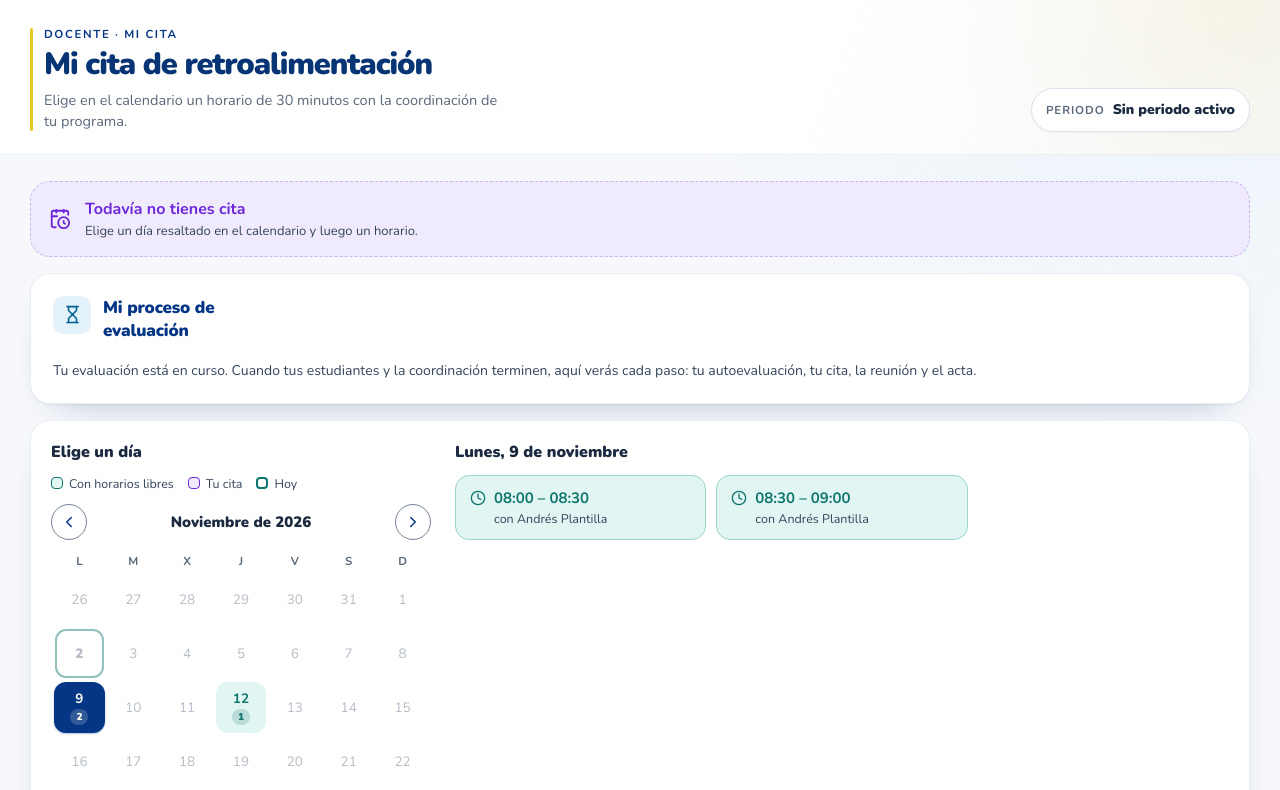
MiCita › si otra persona tomó la franja muestra el 409 y recarga la lista
Step 1. Click the button with aria-label "Reservar 9 de nov de 2026, 08:00–08:30" → (581, 507), box x1=455 y1=475 x2=706 y2=540
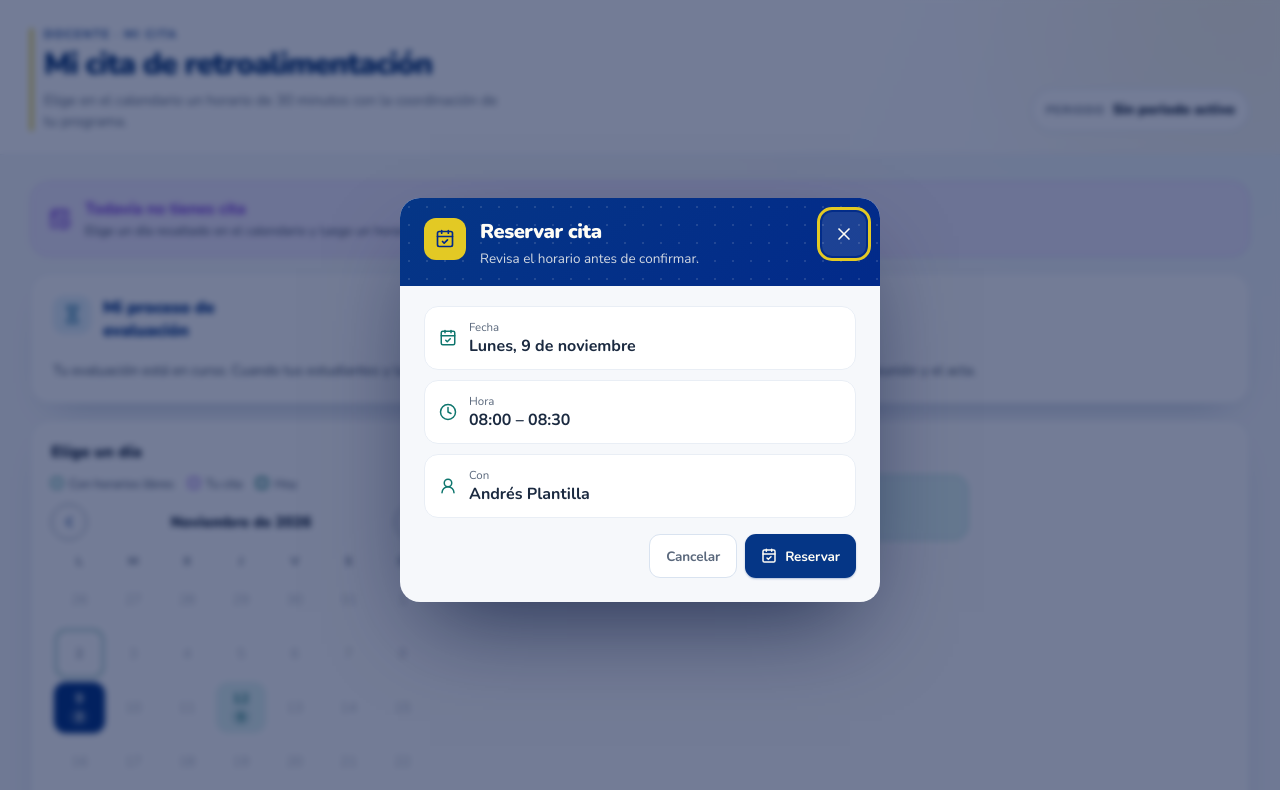
Step 2. Click the button "Reservar" → (801, 556), box x1=745 y1=534 x2=856 y2=578
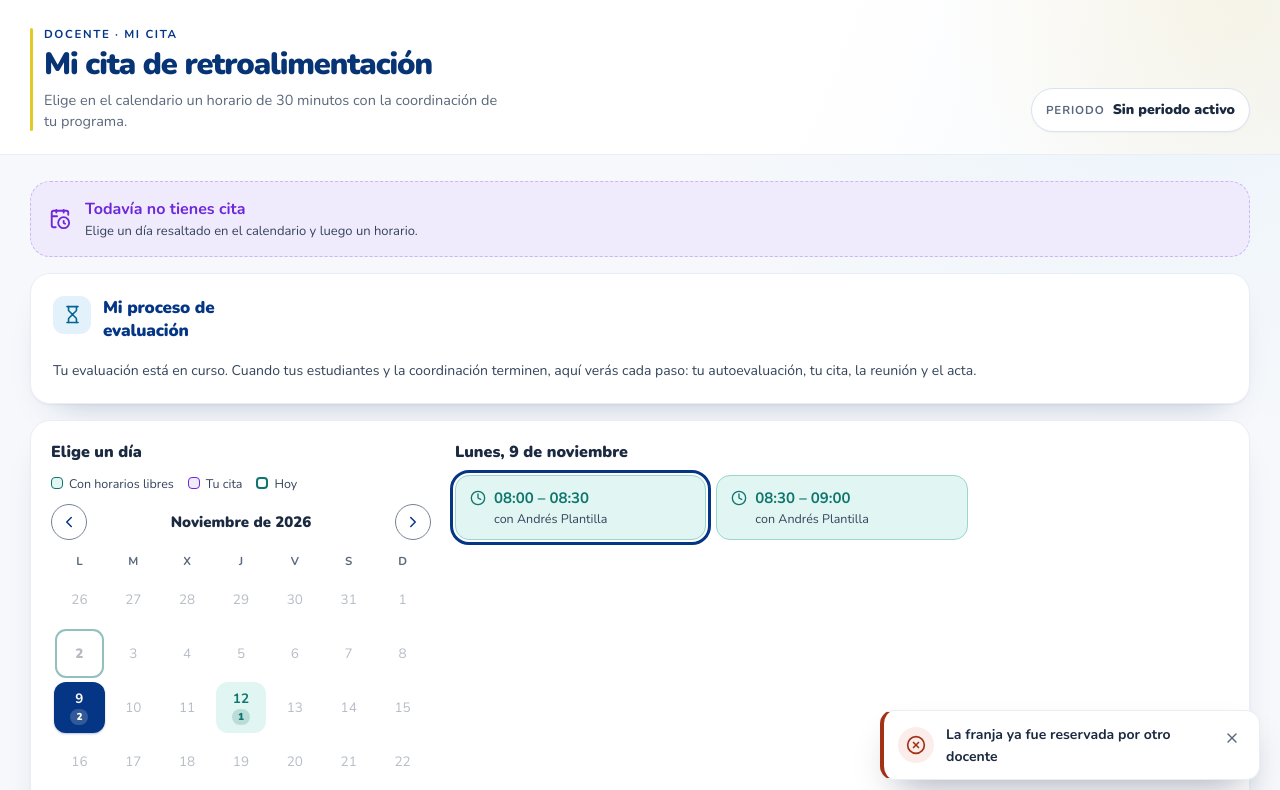
Check: the message reads "La franja ya fue reservada por otro docente", box x1=946 y1=725 x2=1171 y2=766
